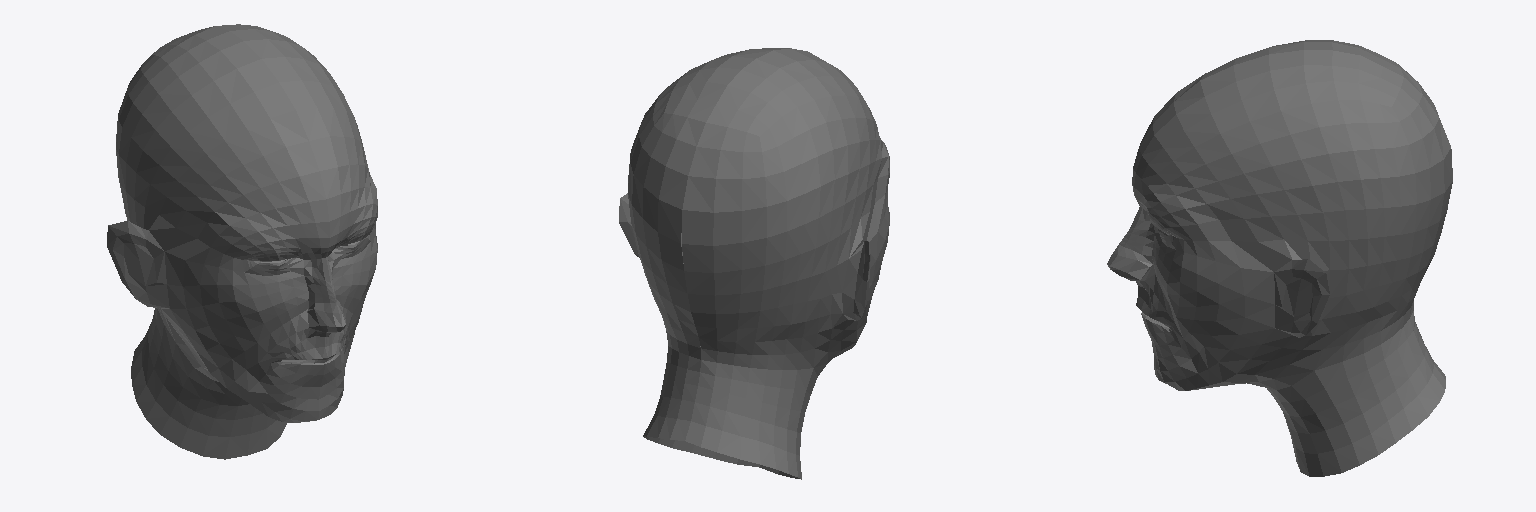
Rendered from MayaReTopoHead.obj.
3 views of the same model, side by side, from view 1: azimuth 30°, elevation 25°; view 2: azimuth 150°, elevation 25°; view 3: azimuth 270°, elevation 25° (orthographic).
Visible parts, largest first — view 1: polySurface26; view 2: polySurface26; view 3: polySurface26.
Boxes of the visible parts, box(x1,y1,x2,y2) form: polySurface26: box(107, 24, 377, 459); polySurface26: box(619, 48, 889, 479); polySurface26: box(1107, 40, 1452, 476).
Bounding box in the file's own units: 14.98 × 23.6 × 17.97.